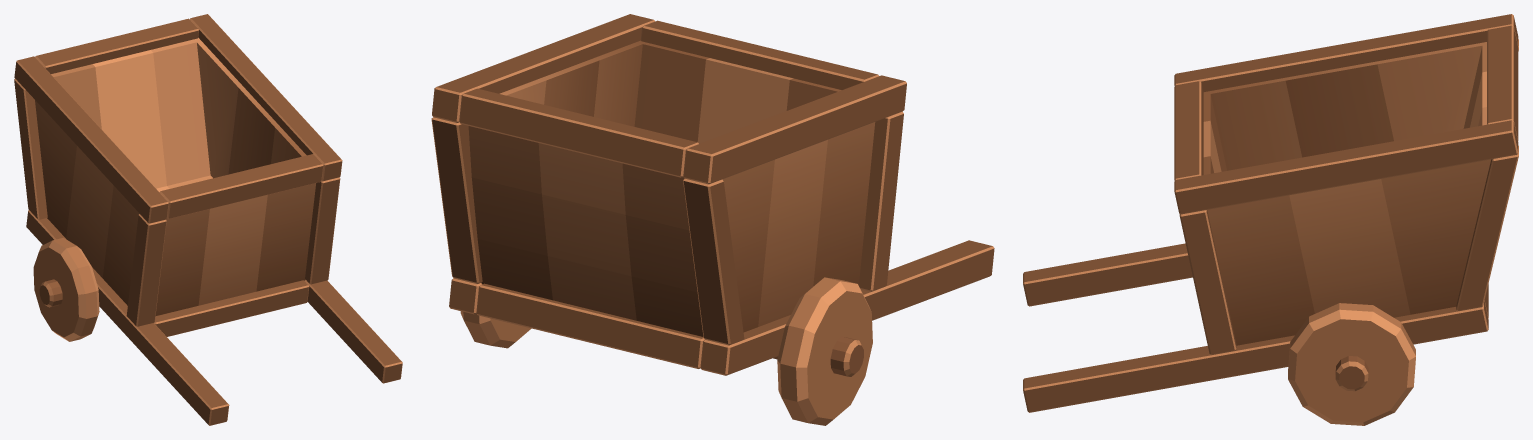
The model's file is mt_prop_cart.fbx.
3 views of the same model, side by side, from view 1: azimuth 30°, elevation 25°; view 2: azimuth 150°, elevation 25°; view 3: azimuth 270°, elevation 25° (orthographic). The views are drawn at different scales.
Parts seen in each view (by area): view 1: prop_cart; view 2: prop_cart; view 3: prop_cart.
Part boxes in pixels (box(x1,y1,x2,y2)): prop_cart: box(14, 14, 402, 425); prop_cart: box(431, 14, 994, 425); prop_cart: box(1023, 14, 1518, 425).
Bounding box in the file's own units: 153 × 126 × 199.
